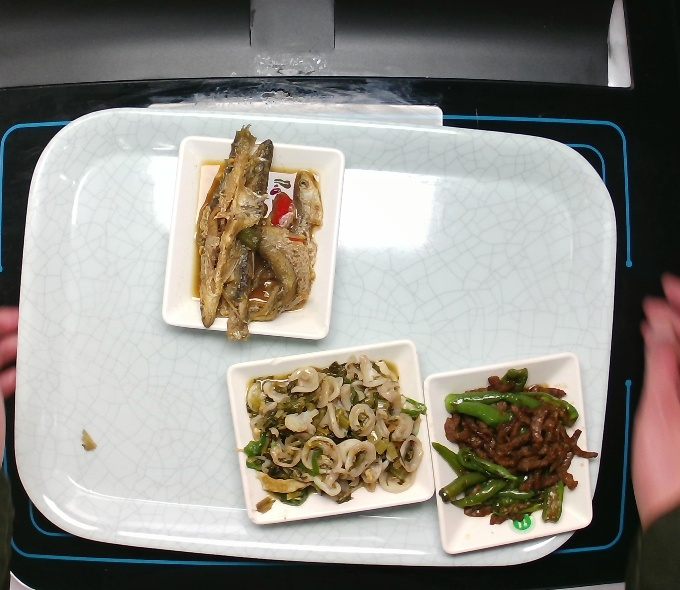wcq-QingJiaoNiuRou: (429, 363, 612, 530)
wcq-XiaoXiYu: (182, 124, 329, 341)
wcq-XueCaiYouYu: (236, 355, 435, 522)
